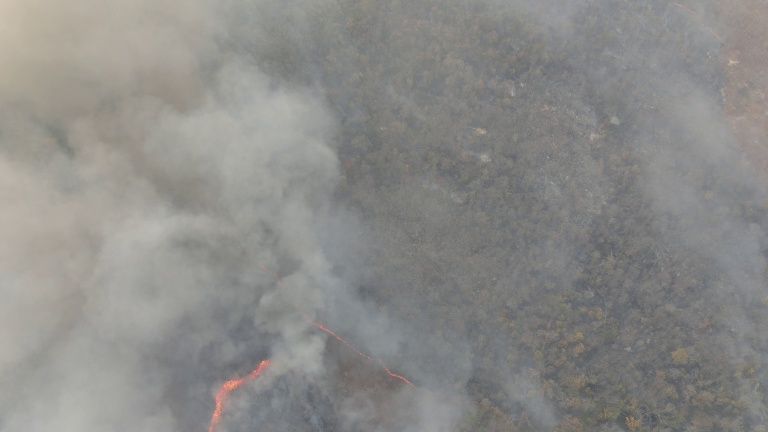fire: (201, 355, 277, 432), (267, 269, 338, 339), (340, 343, 418, 392)
smoke: (1, 64, 351, 426), (32, 1, 324, 234), (410, 360, 478, 424)
